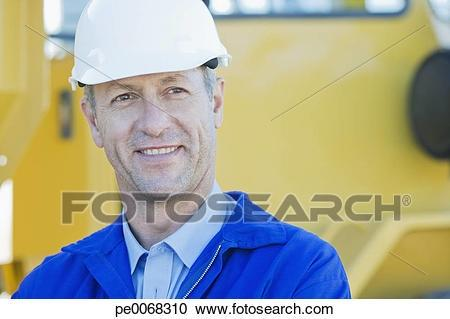helmet: (67, 1, 233, 88)
wear: (8, 225, 352, 298)
